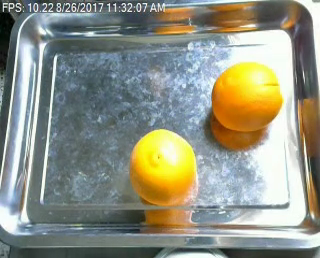Orange: (130, 129, 197, 206), (211, 62, 283, 131)
